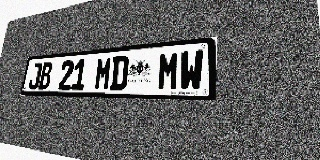1: (70, 59, 88, 90)
2: (58, 60, 74, 90)
B: (38, 62, 53, 90)
D: (110, 55, 129, 90)
J: (28, 63, 42, 90)
M: (157, 51, 180, 91), (94, 57, 113, 90)
W: (179, 49, 204, 91)
